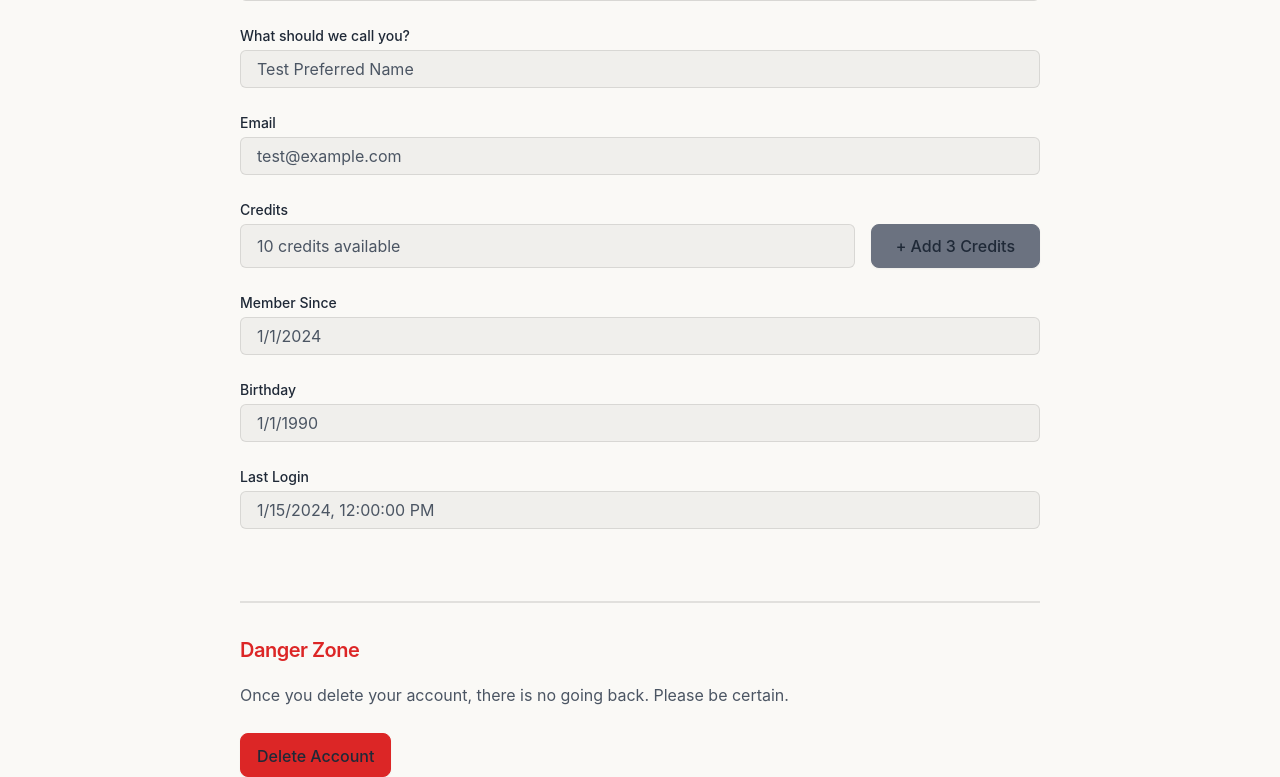
it: ProfilePage › should show confirmation dialog when delete button is clicked
The image size is (1280, 777).
(page scrolled)
Step 1. Click the button "Delete Account" → x=316, y=755, box [240,733,391,776]
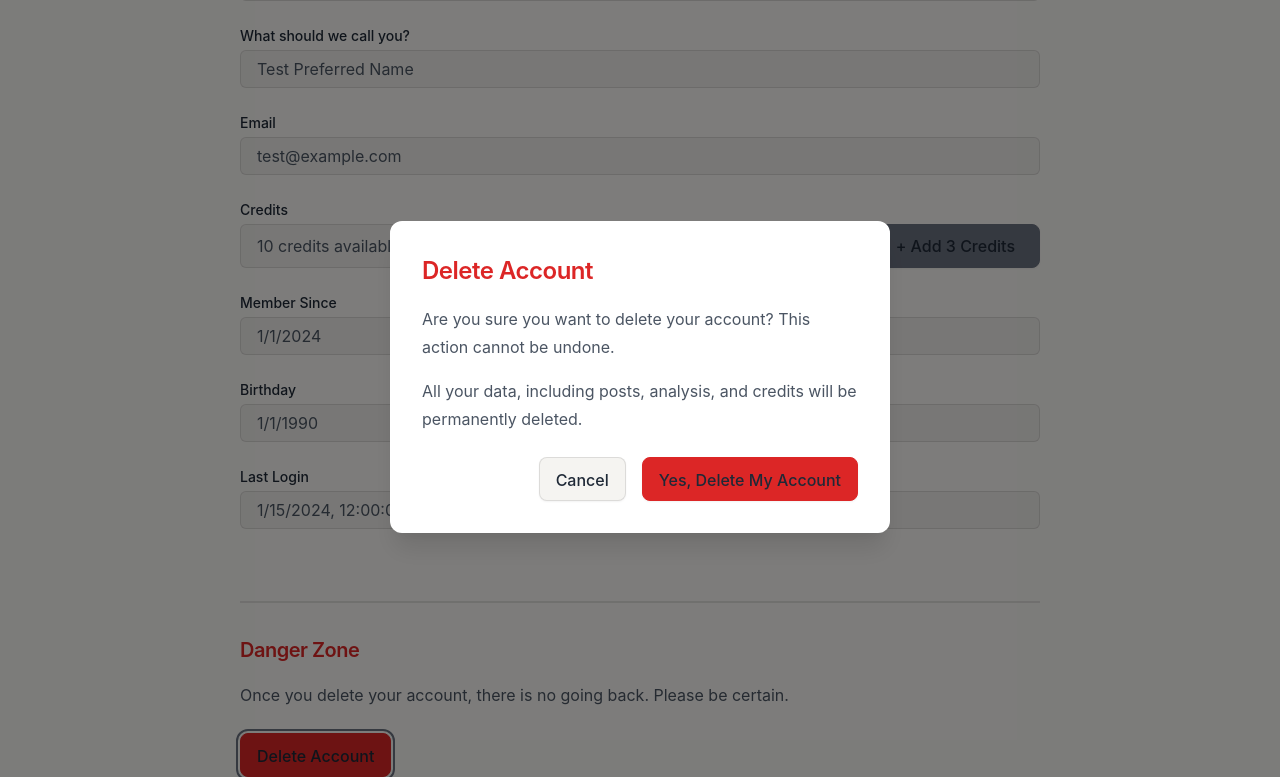
Expected: the text "Are you sure you want to delete your account" is shown, [422,309,810,357]
Expected: the button "Yes, Delete My Account" is shown, [642,457,858,501]
Expected: the button "Cancel" is shown, [539,457,626,501]
